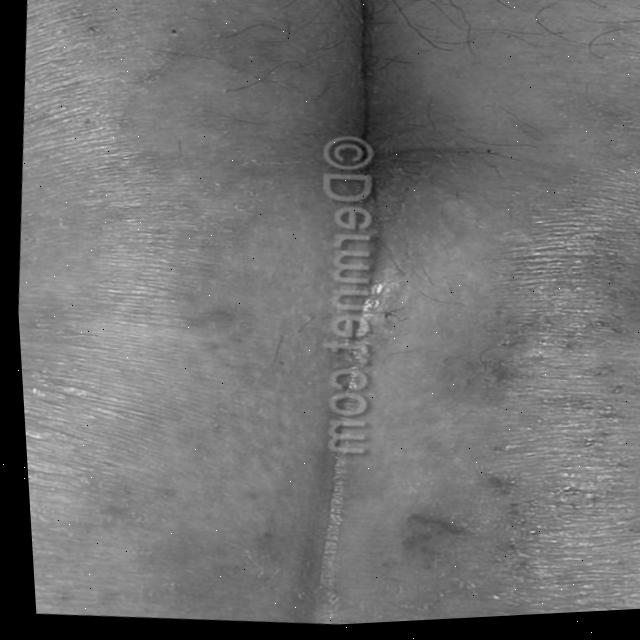Eczema: (372, 0, 640, 615)
